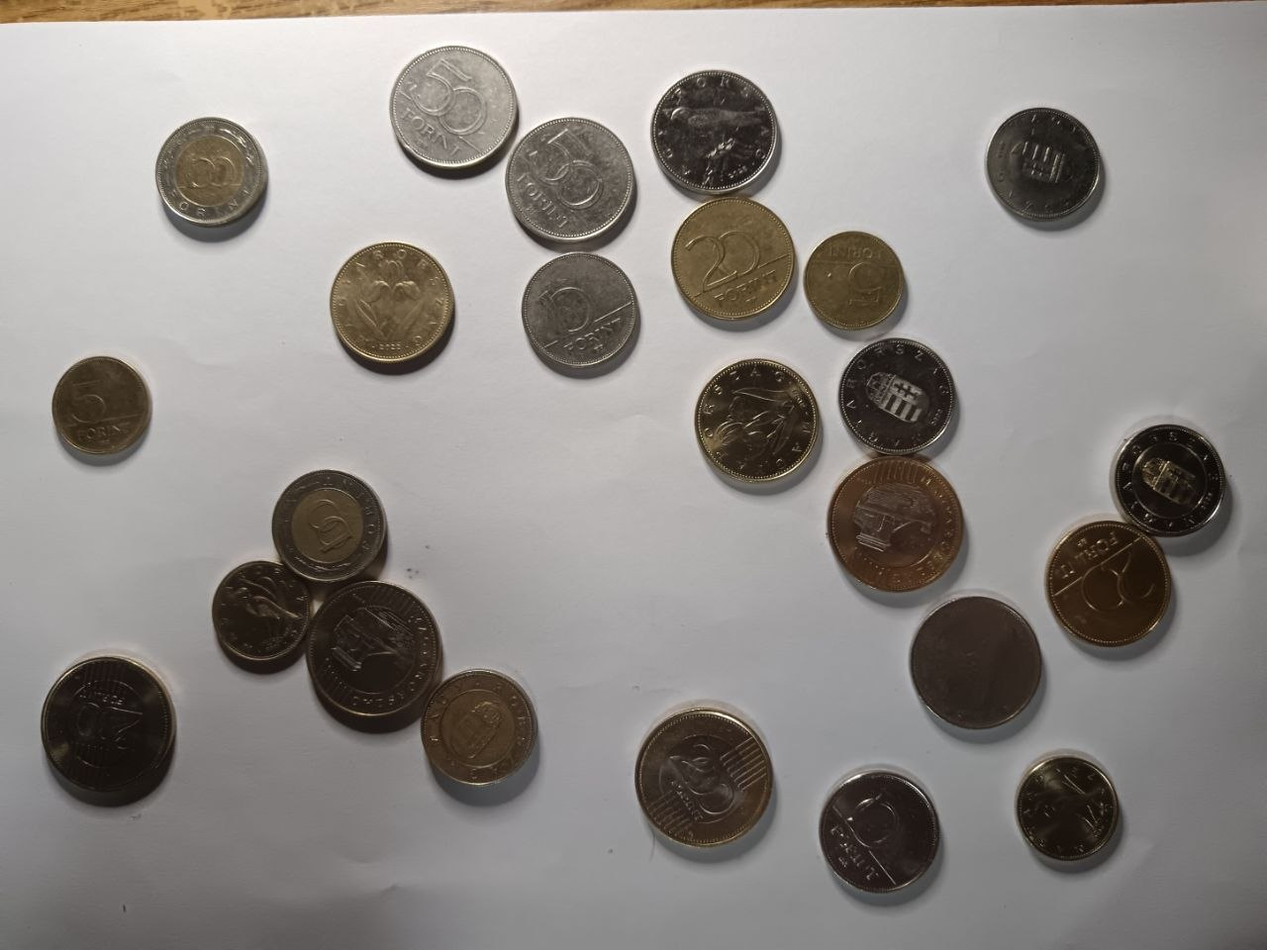100ft: (276, 470, 384, 581), (427, 670, 532, 783), (160, 119, 263, 221), (1119, 427, 1218, 530)
10ft: (818, 773, 937, 890), (987, 109, 1102, 216), (845, 339, 957, 448), (526, 253, 634, 365)
200ft: (638, 711, 772, 849), (45, 655, 173, 794), (830, 457, 960, 590), (311, 585, 441, 715)
20ft: (674, 198, 793, 316), (333, 242, 447, 363), (1053, 522, 1168, 641), (703, 360, 815, 478)
50ft: (915, 598, 1041, 726), (386, 48, 515, 167), (652, 72, 777, 193), (515, 120, 630, 237)
5ft: (1021, 758, 1118, 860), (54, 356, 149, 457), (210, 562, 305, 661), (806, 233, 900, 329)
